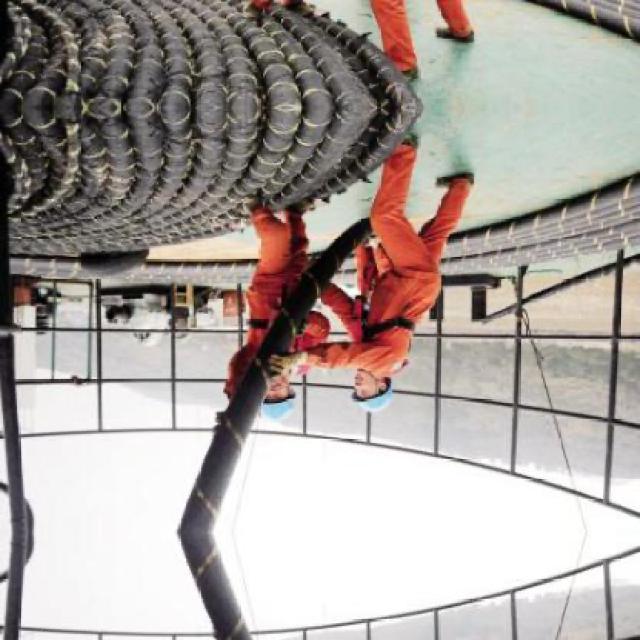con casco: (330, 338, 460, 416), (216, 361, 323, 449)
